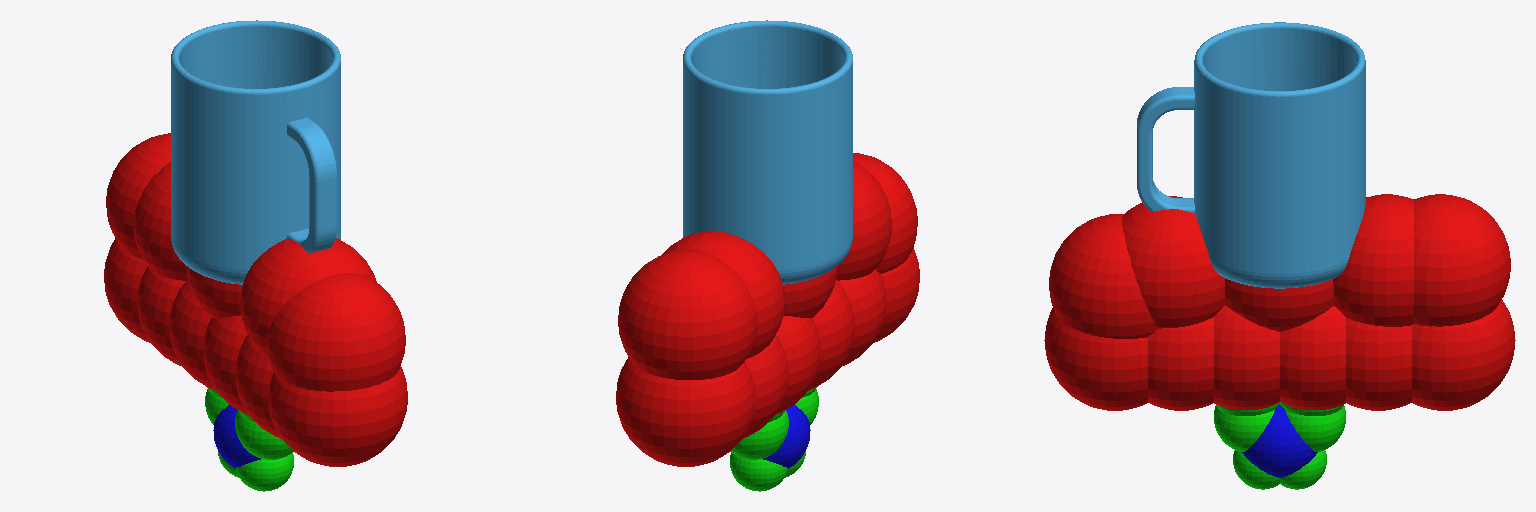
URDF robot description (pxyz_rz):
<?xml version="1.0" encoding="utf-8"?>
<!-- =================================================================================== -->
<!-- |    This document was autogenerated by xacro from mug_hand_prismatic_xyz_revolute_z.urdf.xacro | -->
<!-- |    EDITING THIS FILE BY HAND IS NOT RECOMMENDED                                 | -->
<!-- =================================================================================== -->
<robot name="pxyz_rz">
  <material name="redtran">
    <color rgba=".9 .1 .1 0.3"/>
  </material>
  <material name="greentran">
    <color rgba=".1 .9 .1 0.3"/>
  </material>
  <material name="bluetran">
    <color rgba=".1 .1 .9 0.3"/>
  </material>
  <link name="pxyz_rz_base_link"/>
  <link name="pxyz_rz_prismatic_x_link"/>
  <link name="pxyz_rz_prismatic_y_link"/>
  <link name="pxyz_rz_prismatic_z_link"/>
  <link name="pxyz_rz_revolute_z_link"/>
  <joint name="pxyz_rz_prismatic_x_joint" type="prismatic">
    <parent link="pxyz_rz_base_link"/>
    <child link="pxyz_rz_prismatic_x_link"/>
    <origin rpy="0 0 0" xyz="0 0 0"/>
    <axis xyz="1 0 0"/>
  </joint>
  <joint name="pxyz_rz_prismatic_y_joint" type="prismatic">
    <parent link="pxyz_rz_prismatic_x_link"/>
    <child link="pxyz_rz_prismatic_y_link"/>
    <origin rpy="0 0 0" xyz="0 0 0"/>
    <axis xyz="0 1 0"/>
  </joint>
  <joint name="pxyz_rz_prismatic_z_joint" type="prismatic">
    <parent link="pxyz_rz_prismatic_y_link"/>
    <child link="pxyz_rz_prismatic_z_link"/>
    <origin rpy="0 0 0" xyz="0 0 0"/>
    <axis xyz="0 0 1"/>
  </joint>
  <joint name="pxyz_rz_revolute_z_joint" type="revolute">
    <parent link="pxyz_rz_prismatic_z_link"/>
    <child link="pxyz_rz_revolute_z_link"/>
    <origin rpy="0 0 0" xyz="0 0 0"/>
    <axis xyz="0 0 -1"/>
  </joint>
  <joint name="panda_hand_joint" type="fixed">
    <parent link="pxyz_rz_revolute_z_link"/>
    <child link="panda_hand"/>
    <origin rpy="3.14159265359 0 0" xyz="0 0 0"/>
  </joint>
  <link name="panda_hand">
    <visual>
      <geometry>
        <mesh filename="package://franka_description/meshes/visual/hand.dae"/>
      </geometry>
    </visual>
    <visual>
      <origin xyz="0 -.077 .041"/>
      <geometry>
        <sphere radius="0.033"/>
      </geometry>
      <material name="redtran"/>
    </visual>
    <visual>
      <origin xyz="0 .075 .012"/>
      <geometry>
        <sphere radius="0.033"/>
      </geometry>
      <material name="redtran"/>
    </visual>
    <visual>
      <origin xyz="0 .077 .041"/>
      <geometry>
        <sphere radius="0.033"/>
      </geometry>
      <material name="redtran"/>
    </visual>
    <visual>
      <origin xyz="0 -.05 .002"/>
      <geometry>
        <sphere radius="0.033"/>
      </geometry>
      <material name="redtran"/>
    </visual>
    <visual>
      <origin xyz="0 -.046 .041"/>
      <geometry>
        <sphere radius="0.033"/>
      </geometry>
      <material name="redtran"/>
    </visual>
    <visual>
      <origin xyz="0 .046 .041"/>
      <geometry>
        <sphere radius="0.033"/>
      </geometry>
      <material name="redtran"/>
    </visual>
    <visual>
      <origin xyz="0 .016 .041"/>
      <geometry>
        <sphere radius="0.033"/>
      </geometry>
      <material name="redtran"/>
    </visual>
    <visual>
      <origin xyz="0 -.016 .041"/>
      <geometry>
        <sphere radius="0.033"/>
      </geometry>
      <material name="redtran"/>
    </visual>
    <visual>
      <origin xyz="0 -.075 .002"/>
      <geometry>
        <sphere radius="0.033"/>
      </geometry>
      <material name="redtran"/>
    </visual>
    <visual>
      <origin xyz="0 .051 .003"/>
      <geometry>
        <sphere radius="0.033"/>
      </geometry>
      <material name="redtran"/>
    </visual>
    <visual>
      <origin xyz="0 0 .003"/>
      <geometry>
        <sphere radius="0.033"/>
      </geometry>
      <material name="redtran"/>
    </visual>
  </link>
  <link name="panda_leftfinger">
    <visual>
      <geometry>
        <mesh filename="package://franka_description/meshes/visual/finger.dae"/>
      </geometry>
    </visual>
    <visual>
      <origin xyz="0 .014 .022"/>
      <geometry>
        <sphere radius="0.017"/>
      </geometry>
      <material name="greentran"/>
    </visual>
    <visual>
      <origin xyz="0 .015 .005"/>
      <geometry>
        <sphere radius="0.018"/>
      </geometry>
      <material name="greentran"/>
    </visual>
    <visual>
      <origin xyz="0 .008 .044"/>
      <geometry>
        <sphere radius="0.014"/>
      </geometry>
      <material name="greentran"/>
    </visual>
  </link>
  <link name="panda_rightfinger">
    <visual>
      <origin rpy="0 0 3.14159265359" xyz="0 0 0"/>
      <geometry>
        <mesh filename="package://franka_description/meshes/visual/finger.dae"/>
      </geometry>
    </visual>
    <visual>
      <origin xyz="0 -.014 .022"/>
      <geometry>
        <sphere radius="0.017"/>
      </geometry>
      <material name="greentran"/>
    </visual>
    <visual>
      <origin xyz="0 -.015 .005"/>
      <geometry>
        <sphere radius="0.018"/>
      </geometry>
      <material name="greentran"/>
    </visual>
    <visual>
      <origin xyz="0 -.008 .044"/>
      <geometry>
        <sphere radius="0.014"/>
      </geometry>
      <material name="greentran"/>
    </visual>
  </link>
  <link name="panda_hand_center">
    <visual>
      <origin xyz="0 0 0"/>
      <geometry>
        <sphere radius="0.02"/>
      </geometry>
      <material name="bluetran"/>
    </visual>
  </link>
  <joint name="panda_finger_joint1" type="prismatic">
    <parent link="panda_hand"/>
    <child link="panda_leftfinger"/>
    <origin rpy="0 0 0" xyz="0 0 0.0584"/>
    <axis xyz="0 1 0"/>
    <limit effort="20" lower="0.0" upper="0.04" velocity="0.2"/>
  </joint>
  <joint name="panda_finger_joint2" type="prismatic">
    <parent link="panda_hand"/>
    <child link="panda_rightfinger"/>
    <origin rpy="0 0 0" xyz="0 0 0.0584"/>
    <axis xyz="0 -1 0"/>
    <limit effort="20" lower="0.0" upper="0.04" velocity="0.2"/>
    <mimic joint="panda_finger_joint1"/>
  </joint>
  <joint name="panda_hand_center_joint" type="fixed">
    <parent link="panda_hand"/>
    <child link="panda_hand_center"/>
    <origin rpy="0 0 0" xyz="0 0 0.09"/>
  </joint>
  <joint name="mug_joint" type="floating">
    <parent link="pxyz_rz_base_link"/>
    <child link="mug"/>
    <origin rpy="0 0 0" xyz="0 0 0"/>
  </joint>
  <link name="mug">
    <visual>
      <geometry>
        <mesh filename="package://franka_description/meshes/mug.dae"/>
        <!-- <mesh filename="file://[local-path]/.julia/dev/PBDS/urdf/meshes/mug.dae"/>  -->
        <!--/// means absolute path-->
        <!-- <mesh filename="file://../meshes/mug.dae"/> -->
        <!-- <mesh filename="package://$(find panda_roahm)/worlds/mug.dae"/> -->
      </geometry>
    </visual>
  </link>
  <link name="mug_rim_center"/>
  <joint name="mug_rim_center_joint" type="fixed">
    <parent link="mug"/>
    <child link="mug_rim_center"/>
    <origin rpy="0 0 0" xyz="0 0 0.105"/>
  </joint>
</robot>

--- Facts derived from the render (not from the file) ---
3 views of the same robot in one strip: view 1: azimuth 30°, elevation 25°; view 2: azimuth 150°, elevation 25°; view 3: azimuth 270°, elevation 25° (orthographic).
Robot: pxyz_rz — 11 links, 10 joints (1 revolute, 5 prismatic, 3 fixed, 1 floating); root link pxyz_rz_base_link; default pose: every joint at zero.
Links seen in each view (by area): view 1: panda_hand, mug, panda_leftfinger, panda_hand_center, panda_rightfinger; view 2: panda_hand, mug, panda_rightfinger, panda_hand_center, panda_leftfinger; view 3: panda_hand, mug, panda_leftfinger, panda_rightfinger, panda_hand_center.
Boxes of the visible links, x1,y1,x2,y2 form: panda_hand: (104,133,407,466); mug: (171,20,340,284); panda_leftfinger: (235,410,293,491); panda_hand_center: (213,405,260,468); panda_rightfinger: (205,387,238,477); panda_hand: (616,153,919,466); mug: (683,20,852,284); panda_rightfinger: (730,410,788,491); panda_hand_center: (763,405,810,468); panda_leftfinger: (785,387,818,477); panda_hand: (1044,194,1515,410); mug: (1137,22,1365,288); panda_leftfinger: (1214,402,1279,489); panda_rightfinger: (1280,402,1345,489); panda_hand_center: (1242,405,1317,477).
Size in the robot's own frame: 0.0799 by 0.22 by 0.2214 metres.
1 mesh visuals loaded from 3 distinct referenced files (1 Collada DAE); not drawn: 3 (reference not matched to a file when rendering).
